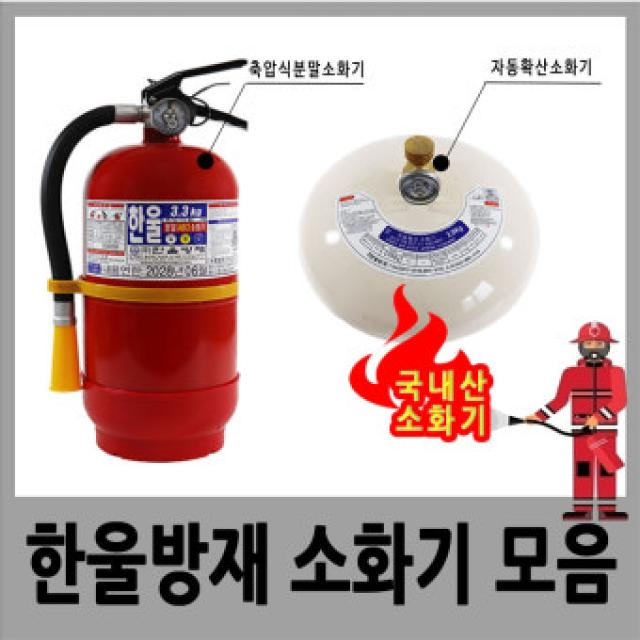pressure gauge: (151, 98, 190, 135)
